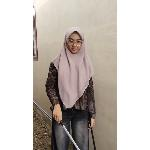Pedang: (50, 107, 80, 150)
